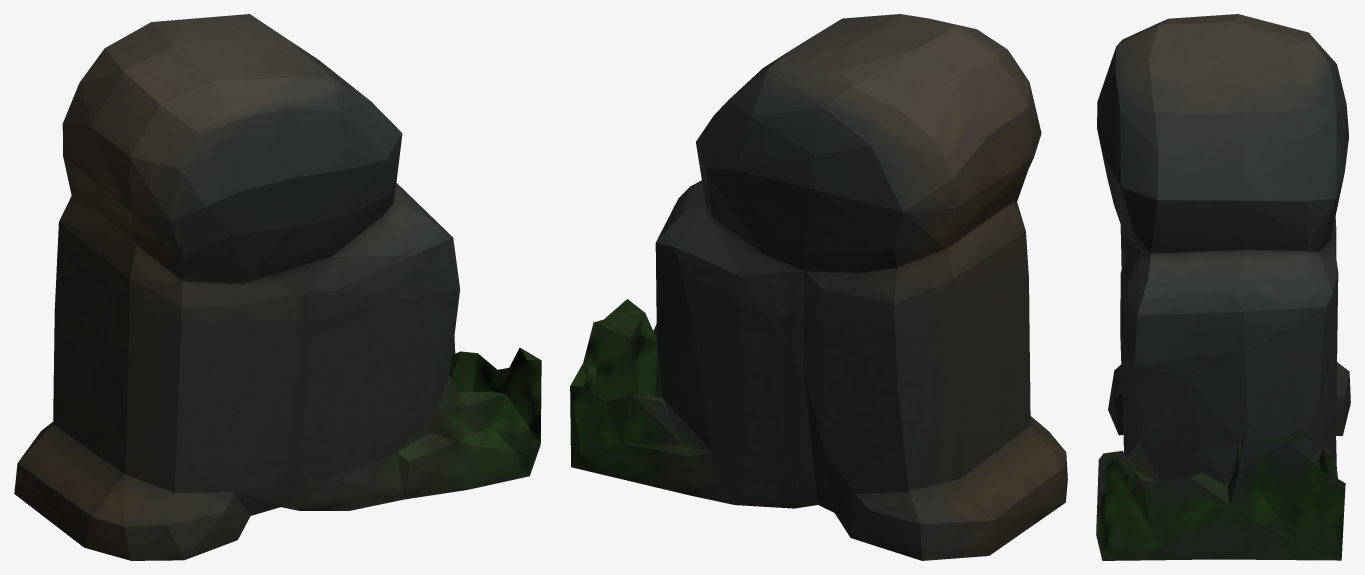
The picture shows the model from 3 angles, left to right: view 1: azimuth 30°, elevation 25°; view 2: azimuth 150°, elevation 25°; view 3: azimuth 270°, elevation 25°; orthographic projection. The views are drawn at different scales.
Parts seen in each view (by area): view 1: geometry_0.021_Baked; view 2: geometry_0.021_Baked; view 3: geometry_0.021_Baked.
Boxes of the visible parts, x1,y1,x2,y2 form: geometry_0.021_Baked: [14, 14, 541, 560]; geometry_0.021_Baked: [570, 14, 1067, 560]; geometry_0.021_Baked: [1096, 14, 1350, 560].
Size of the model in its own units: 14.25 by 14.75 by 8.23.
